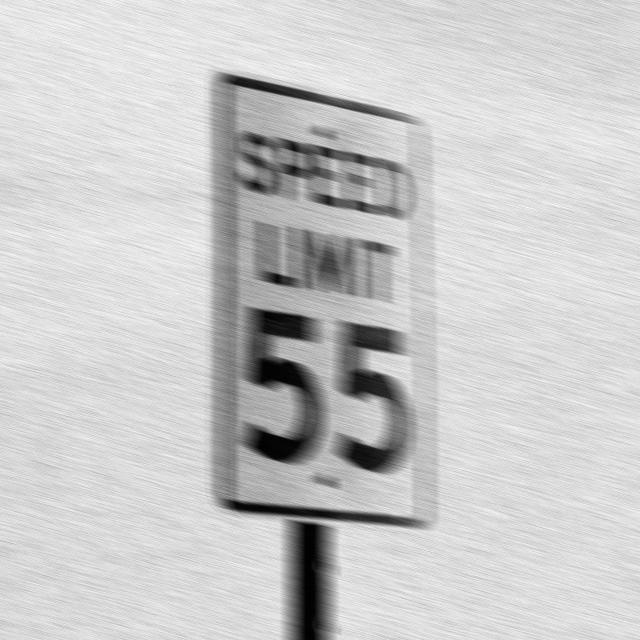speedLimit55: (209, 72, 432, 515)
